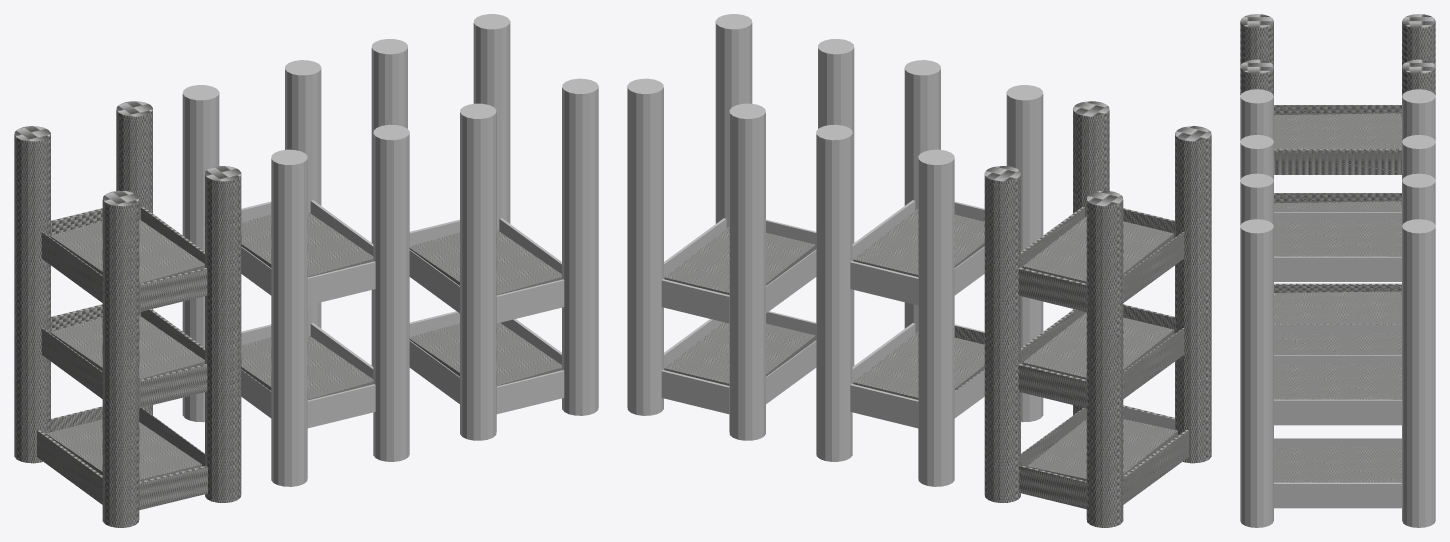
File: Double Bed.fbx
3 renders of one model, left to right at view 1: azimuth 30°, elevation 25°; view 2: azimuth 150°, elevation 25°; view 3: azimuth 270°, elevation 25°, orthographic. The views are drawn at different scales.
Parts seen in each view (by area): view 1: Triple Bed, Double Bed 2, Double Bed 1; view 2: Triple Bed, Double Bed 2, Double Bed 1; view 3: Double Bed 2, Triple Bed, Double Bed 1.
Boxes of the visible parts, x1,y1,x2,y2 form: Triple Bed: [14, 101, 241, 527]; Double Bed 2: [371, 14, 598, 440]; Double Bed 1: [182, 60, 409, 486]; Triple Bed: [984, 101, 1211, 527]; Double Bed 2: [627, 14, 854, 440]; Double Bed 1: [816, 60, 1043, 486]; Double Bed 2: [1240, 173, 1435, 527]; Triple Bed: [1240, 14, 1435, 324]; Double Bed 1: [1240, 89, 1435, 354].
Size of the model in its own units: 962 by 602 by 362.
